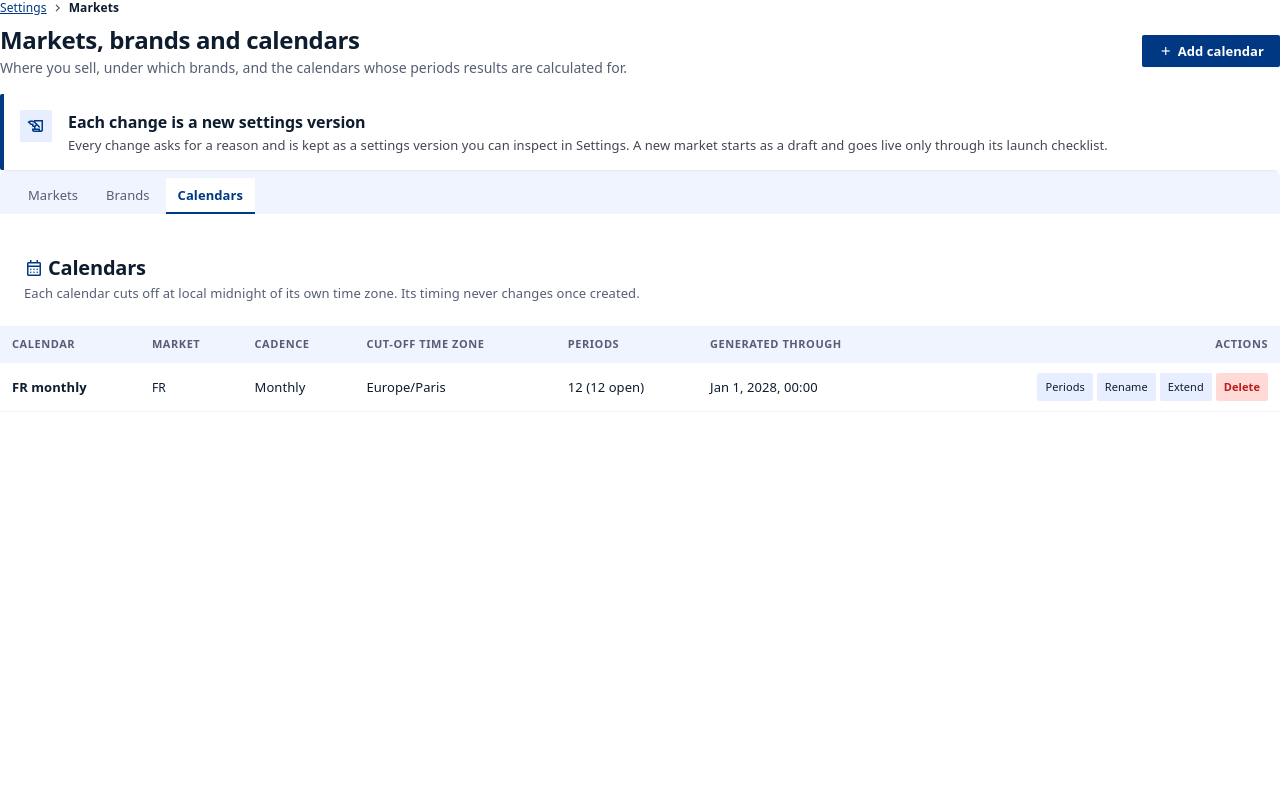
Test case: MarketsPage › shows a calendar’s periods with local-time bounds and explains a committed-period refusal
The width and height of the screenshot is (1280, 800).
Click the button with aria-label "Periods of FR monthly". click: (1065, 386)
box: [1038,372,1093,400]
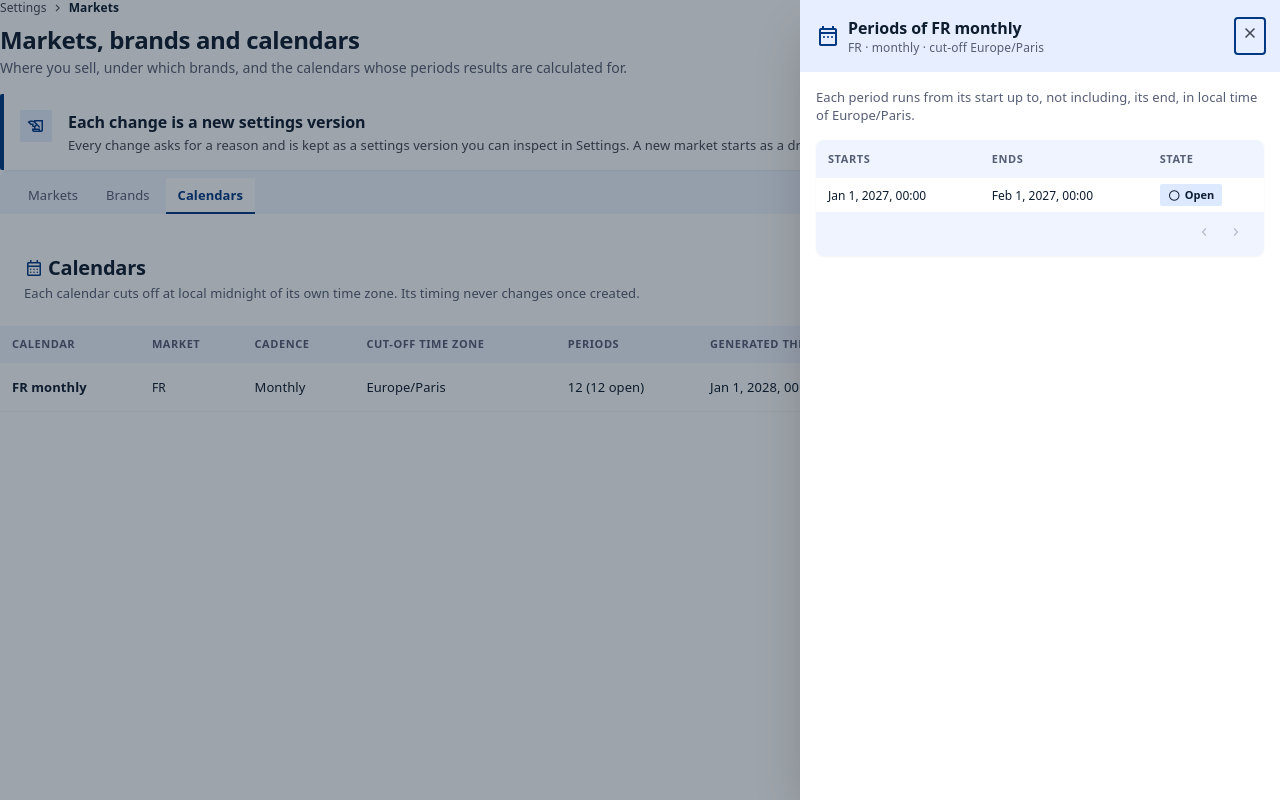
Click the button named "Close panel". click: (1250, 36)
box: [1236,19,1264,53]
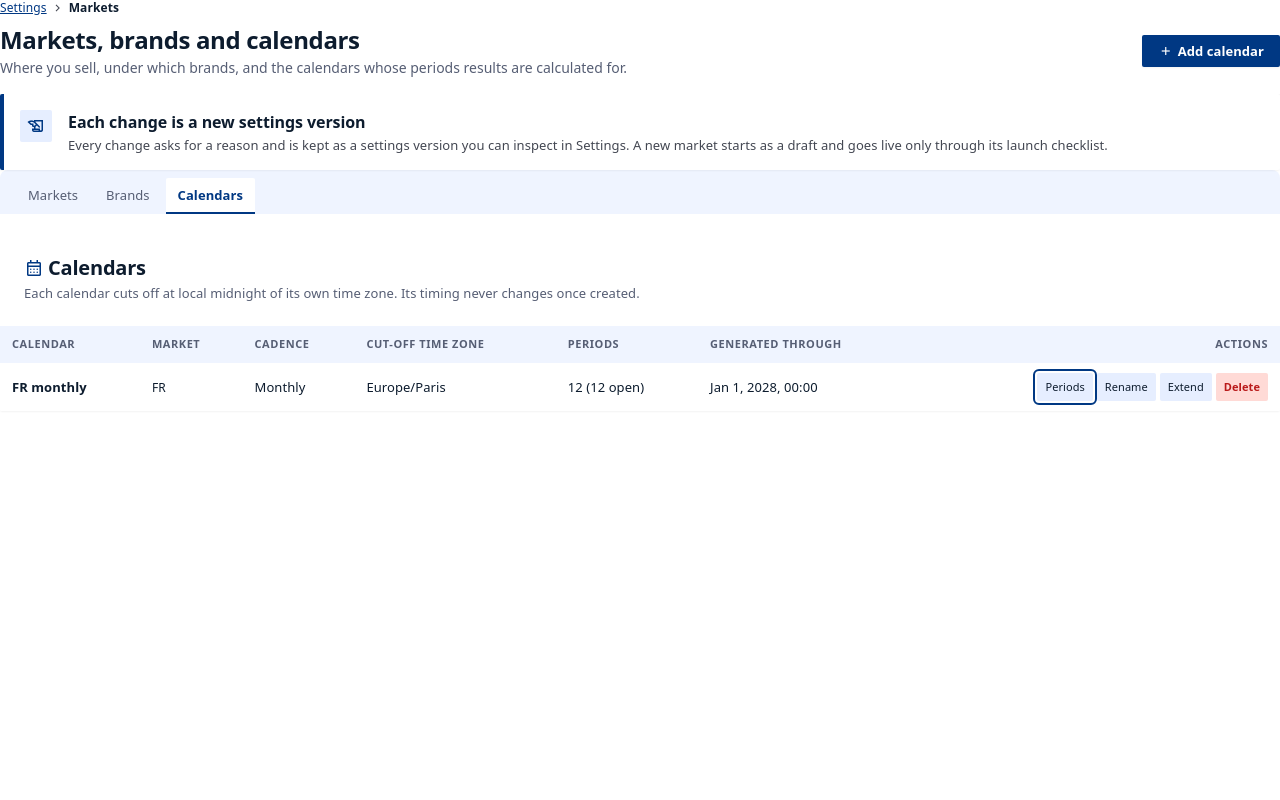
Click the button with aria-label "Delete calendar FR monthly". click: (1242, 386)
box: [1216,372,1268,400]
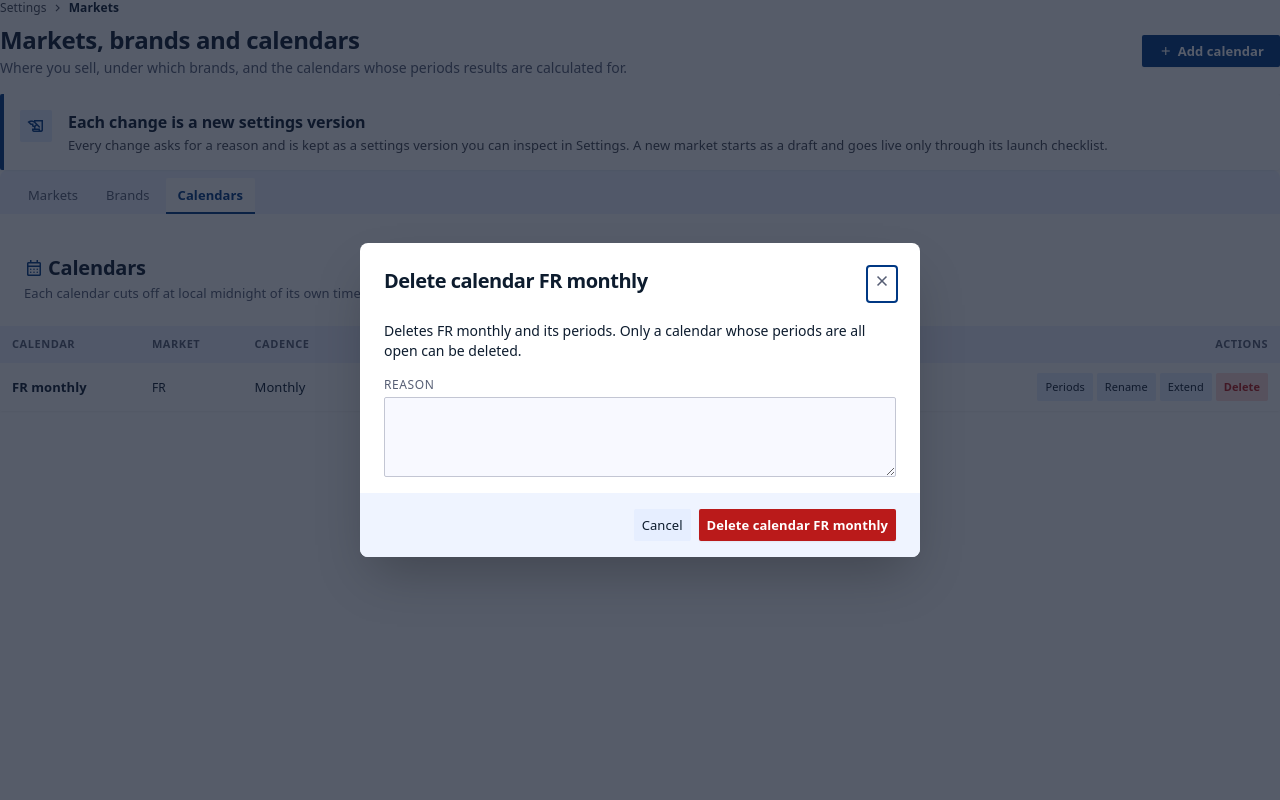
Type "Wrong zone" into the text box labelled "Reason". click: (640, 437)
box: [384,397,896,477]
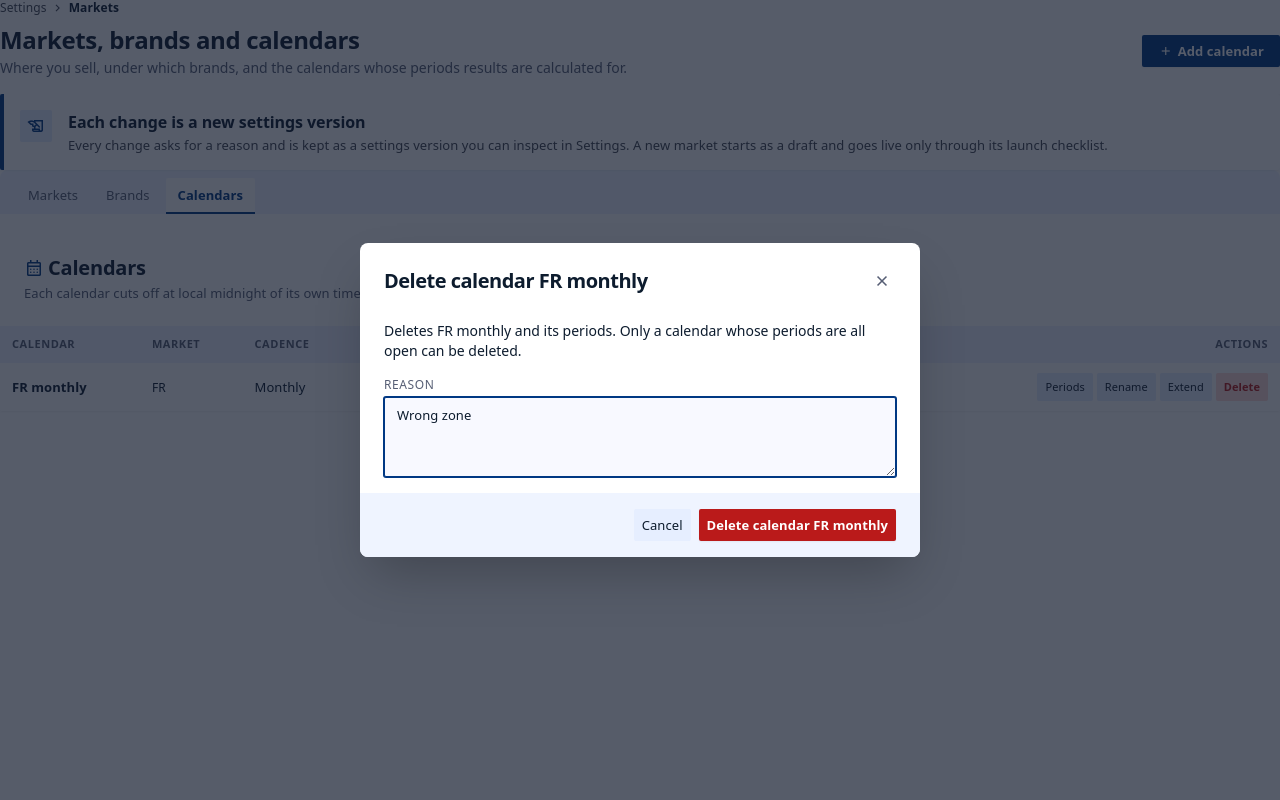
Click the button "Delete calendar FR monthly". click: (797, 525)
box: [699,509,896,541]
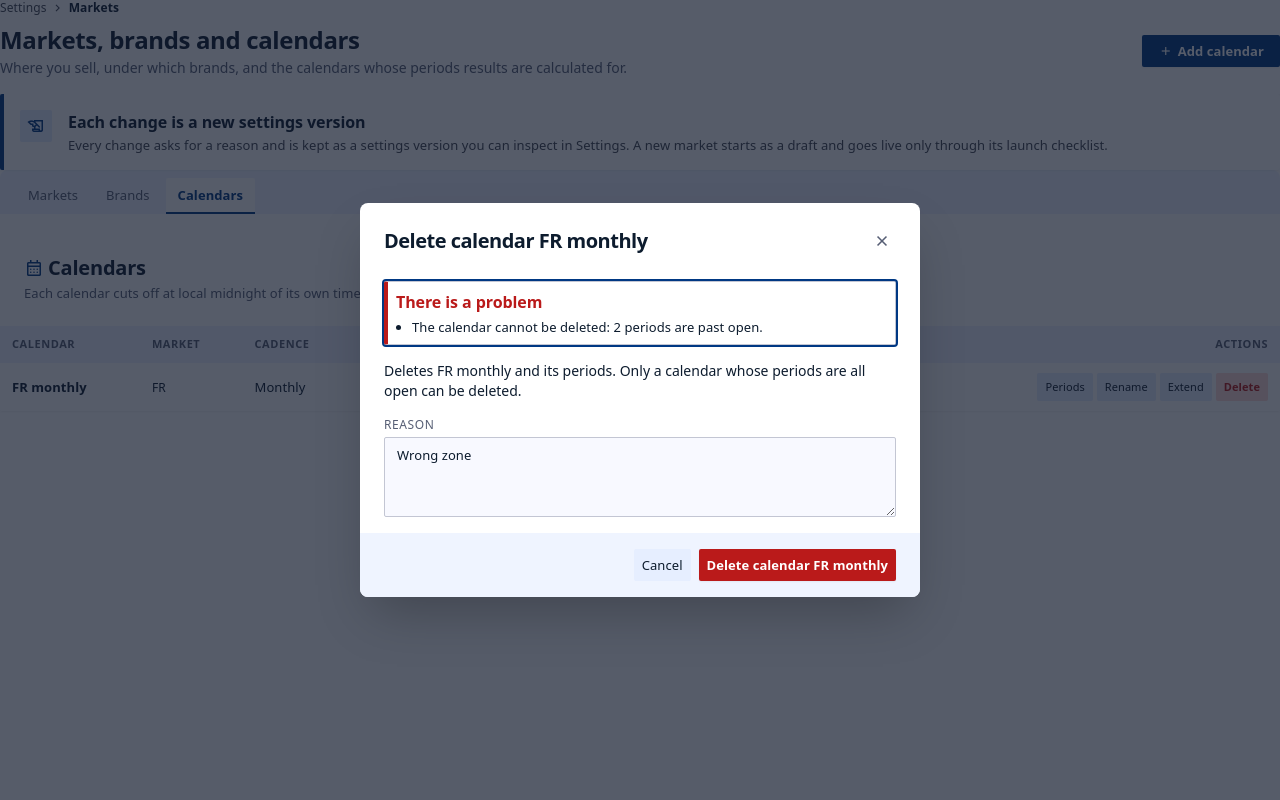
Result: the list item "The calendar cannot be deleted: 2 periods are past open." is shown at [412,318,763,336]
